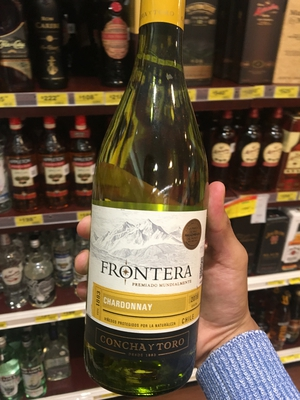frontera chardonnay: (79, 8, 221, 378)
